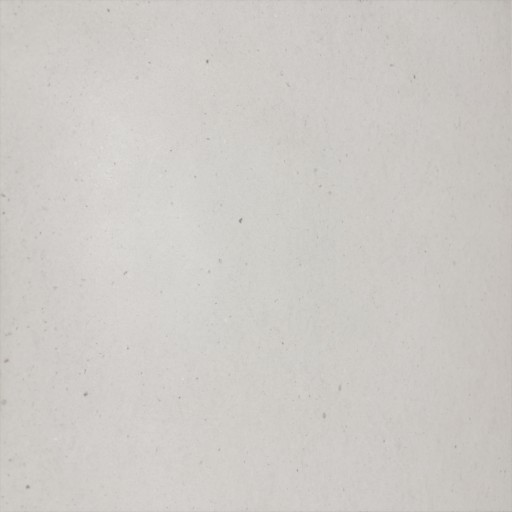lego: (243, 236, 267, 276)
